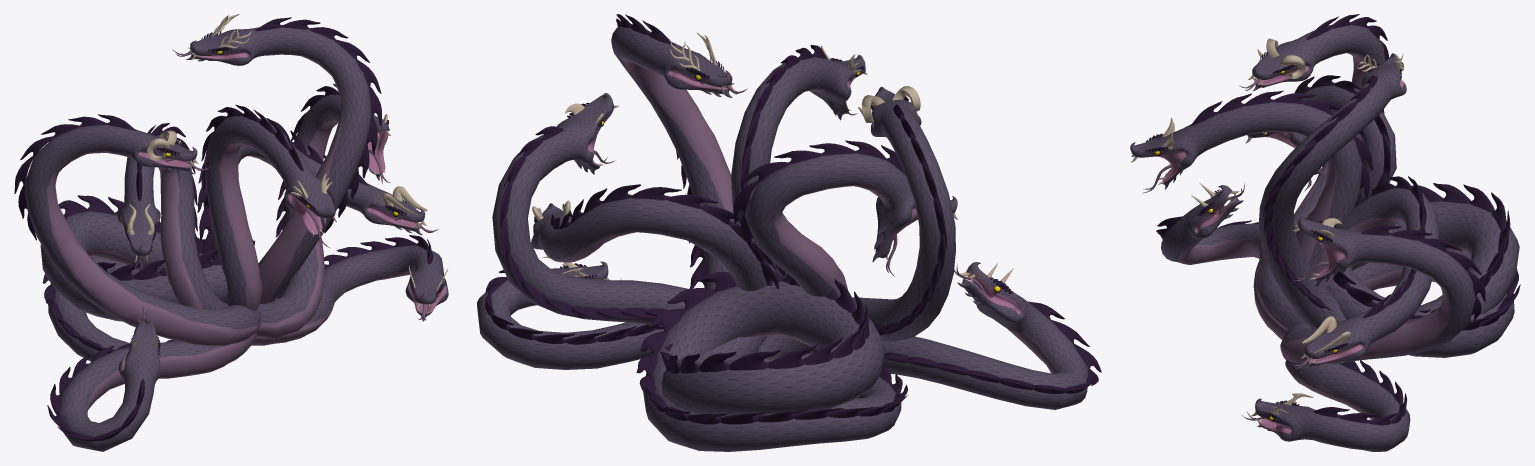
Rendered from orochi.glb.
3 views of the same model, side by side, from view 1: azimuth 30°, elevation 25°; view 2: azimuth 150°, elevation 25°; view 3: azimuth 270°, elevation 25° (orthographic). The views are drawn at different scales.
Parts seen in each view (by area): view 1: Yamata.002, Yamata.003, Yamata, Yamata.004, Body, Yamata.005, Yamata.006, Yamata.007, Yamata.001; view 2: Body, Yamata.005, Yamata.007, Yamata.004, Yamata.001, Yamata.003, Yamata.002, Yamata.006, Yamata; view 3: Body, Yamata.007, Yamata, Yamata.003, Yamata.006, Yamata.001, Yamata.002, Yamata.004, Yamata.005.
Boxes of the visible parts, x1,y1,x2,y2 form: Yamata.002: (14, 114, 260, 345); Yamata.003: (172, 14, 381, 303); Yamata: (201, 104, 336, 310); Yamata.004: (47, 305, 256, 451); Body: (40, 195, 254, 361); Yamata.005: (117, 122, 228, 309); Yamata.006: (251, 235, 448, 345); Yamata.007: (256, 83, 390, 339); Yamata.001: (197, 118, 438, 259); Body: (636, 271, 907, 451); Yamata.005: (733, 140, 957, 357); Yamata.007: (492, 93, 688, 326); Yamata.004: (808, 262, 1101, 409); Yamata.001: (531, 184, 778, 360); Yamata.003: (611, 14, 747, 289); Yamata.002: (852, 86, 955, 341); Yamata.006: (477, 256, 663, 369); Yamata: (731, 45, 867, 277); Body: (1326, 183, 1520, 357); Yamata.007: (1280, 216, 1485, 363); Yamata: (1130, 90, 1373, 315); Yamata.003: (1258, 53, 1406, 328); Yamata.006: (1242, 360, 1410, 451); Yamata.001: (1289, 176, 1439, 369); Yamata.002: (1239, 14, 1388, 330); Yamata.004: (1156, 182, 1287, 339); Yamata.005: (1245, 75, 1396, 241).
Size of the model in its own units: 4.17 by 2.79 by 3.02.
6 materials, 1 textured.
